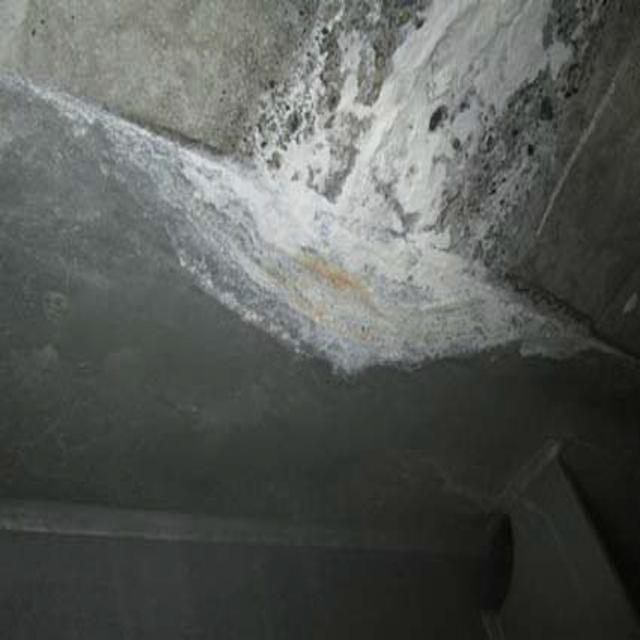freelime: (183, 20, 583, 377)
